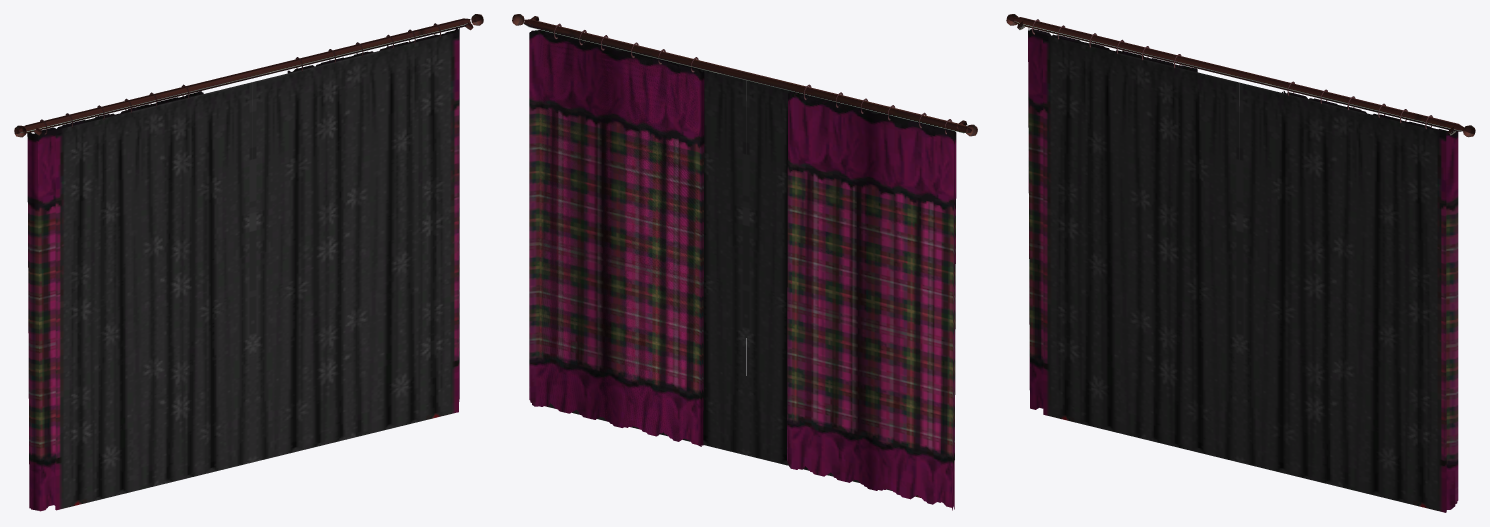
File: furni_0200330_01.FBX
The picture shows the model from 3 angles, left to right: view 1: azimuth 30°, elevation 25°; view 2: azimuth 150°, elevation 25°; view 3: azimuth 330°, elevation 25°; orthographic projection.
Visible parts, largest first — view 1: furni_0200330_01; view 2: furni_0200330_01; view 3: furni_0200330_01.
Boxes of the visible parts, box(x1,y1,x2,y2) form: furni_0200330_01: box(14, 14, 483, 511); furni_0200330_01: box(512, 14, 977, 510); furni_0200330_01: box(1006, 14, 1475, 512).
Bounding box in the file's own units: 353 × 282 × 14.17.
Materials: 2 (2 with a texture image).
